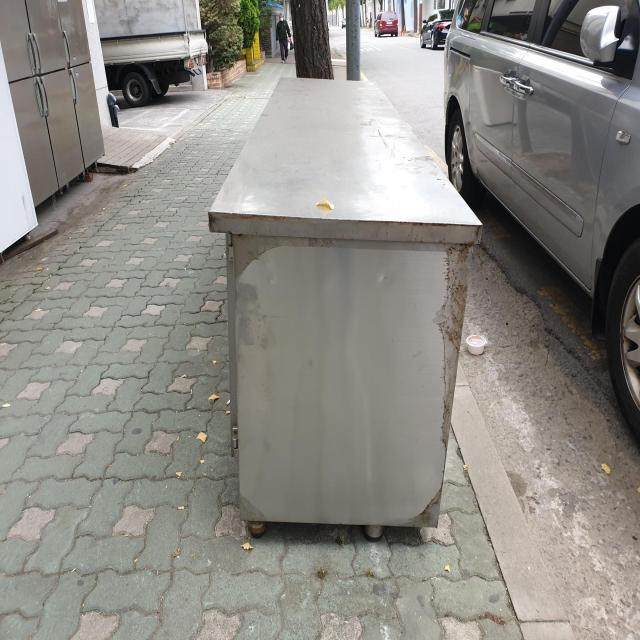refrigerator: (207, 76, 488, 543)
